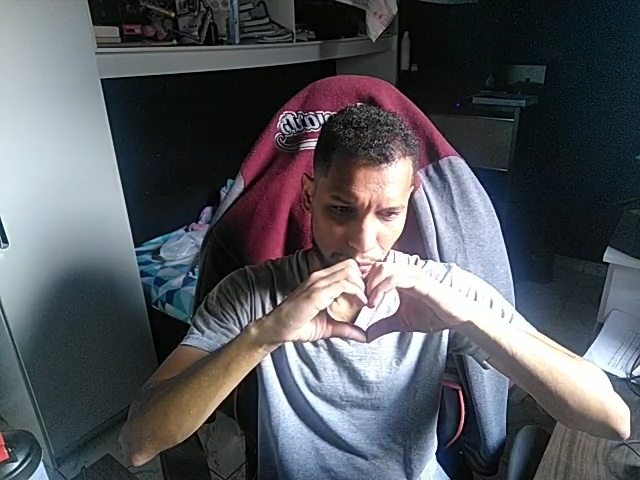eu_te_amo: (286, 254, 452, 344)
